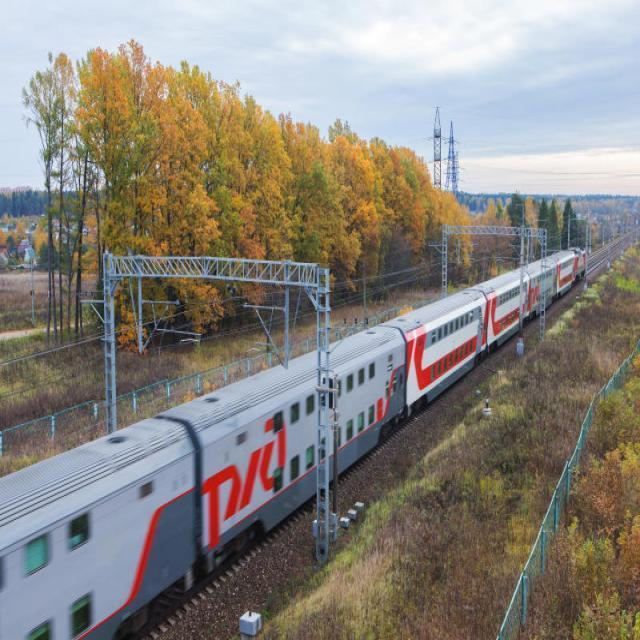trains: (0, 250, 587, 640)
